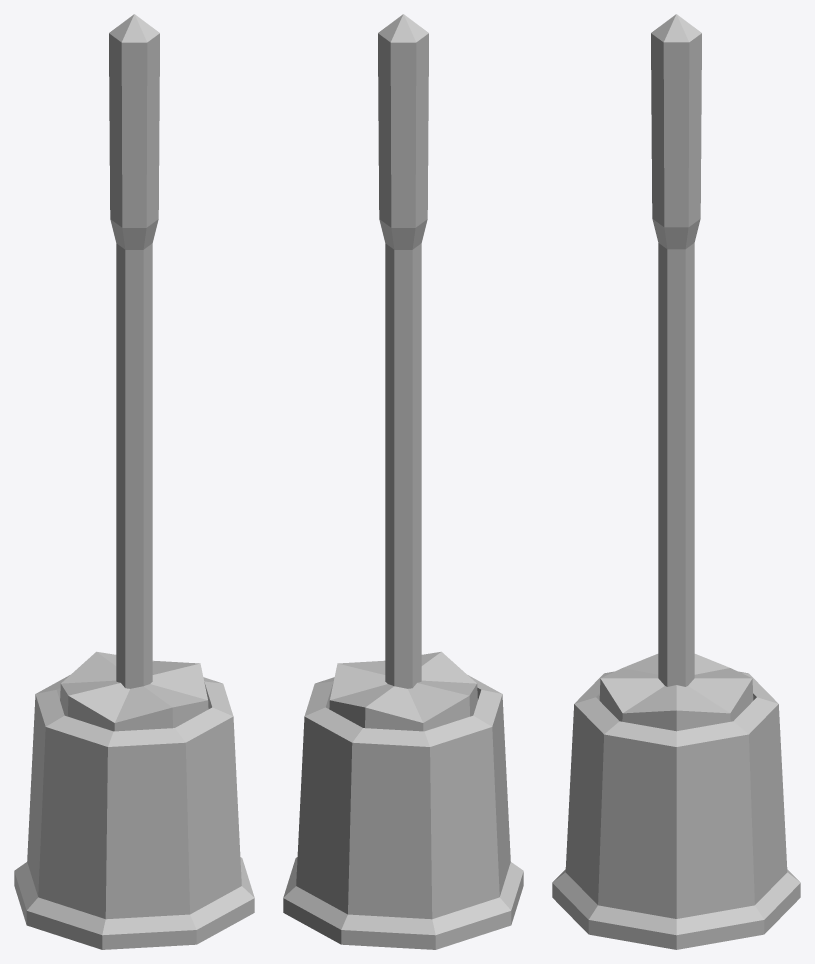
The model's file is SM_Prop_ToiletBrush_01.fbx.
3 views of the same model, side by side, from view 1: azimuth 30°, elevation 25°; view 2: azimuth 150°, elevation 25°; view 3: azimuth 270°, elevation 25° (orthographic).
Parts seen in each view (by area): view 1: SM_Prop_ToiletBrush_01, SM_Prop_ToiletBrush_Stick_01; view 2: SM_Prop_ToiletBrush_01, SM_Prop_ToiletBrush_Stick_01; view 3: SM_Prop_ToiletBrush_01, SM_Prop_ToiletBrush_Stick_01.
Boxes of the visible parts, x1=… form: SM_Prop_ToiletBrush_01: x1=14, y1=675, x2=254, y2=949; SM_Prop_ToiletBrush_Stick_01: x1=60, y1=14, x2=208, y2=731; SM_Prop_ToiletBrush_01: x1=283, y1=675, x2=523, y2=949; SM_Prop_ToiletBrush_Stick_01: x1=329, y1=14, x2=477, y2=731; SM_Prop_ToiletBrush_01: x1=552, y1=671, x2=800, y2=949; SM_Prop_ToiletBrush_Stick_01: x1=599, y1=14, x2=753, y2=731.
Bounding box in the file's own units: 17.16 × 67.29 × 17.16.
